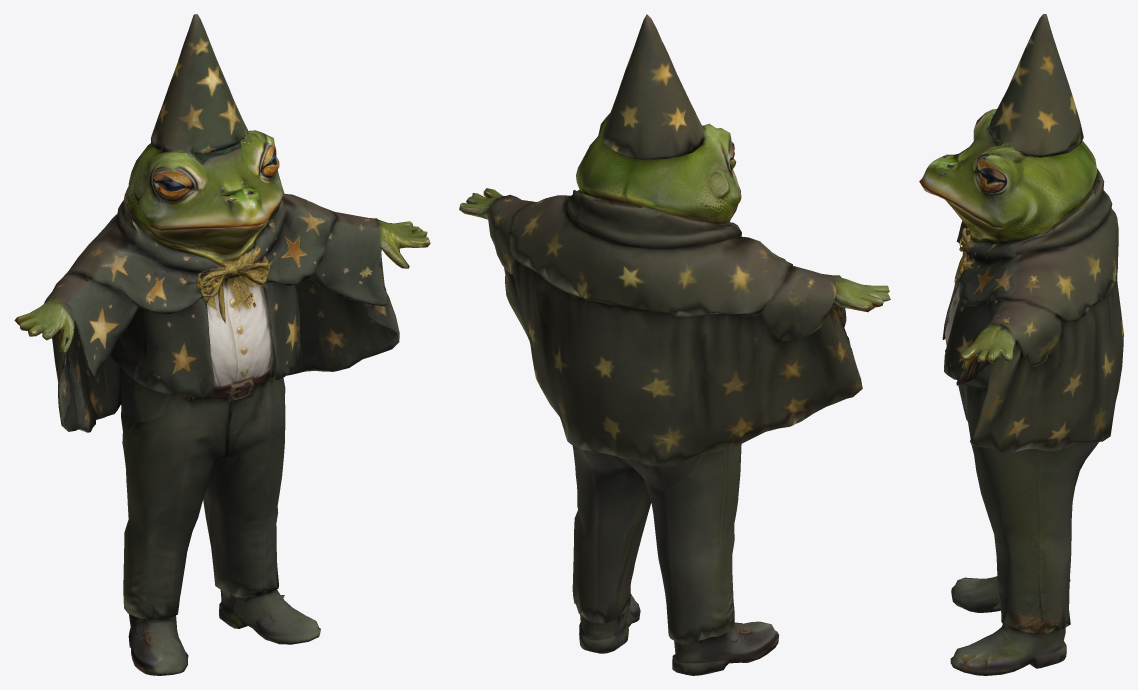
File: Wizard_Frog_0617073353_texture.glb
3 views of the same model, side by side, from view 1: azimuth 30°, elevation 25°; view 2: azimuth 150°, elevation 25°; view 3: azimuth 270°, elevation 25° (orthographic). The views are drawn at different scales.
Size of the model in its own units: 1.37 by 2 by 0.5977.
1 material, 1 textured.
